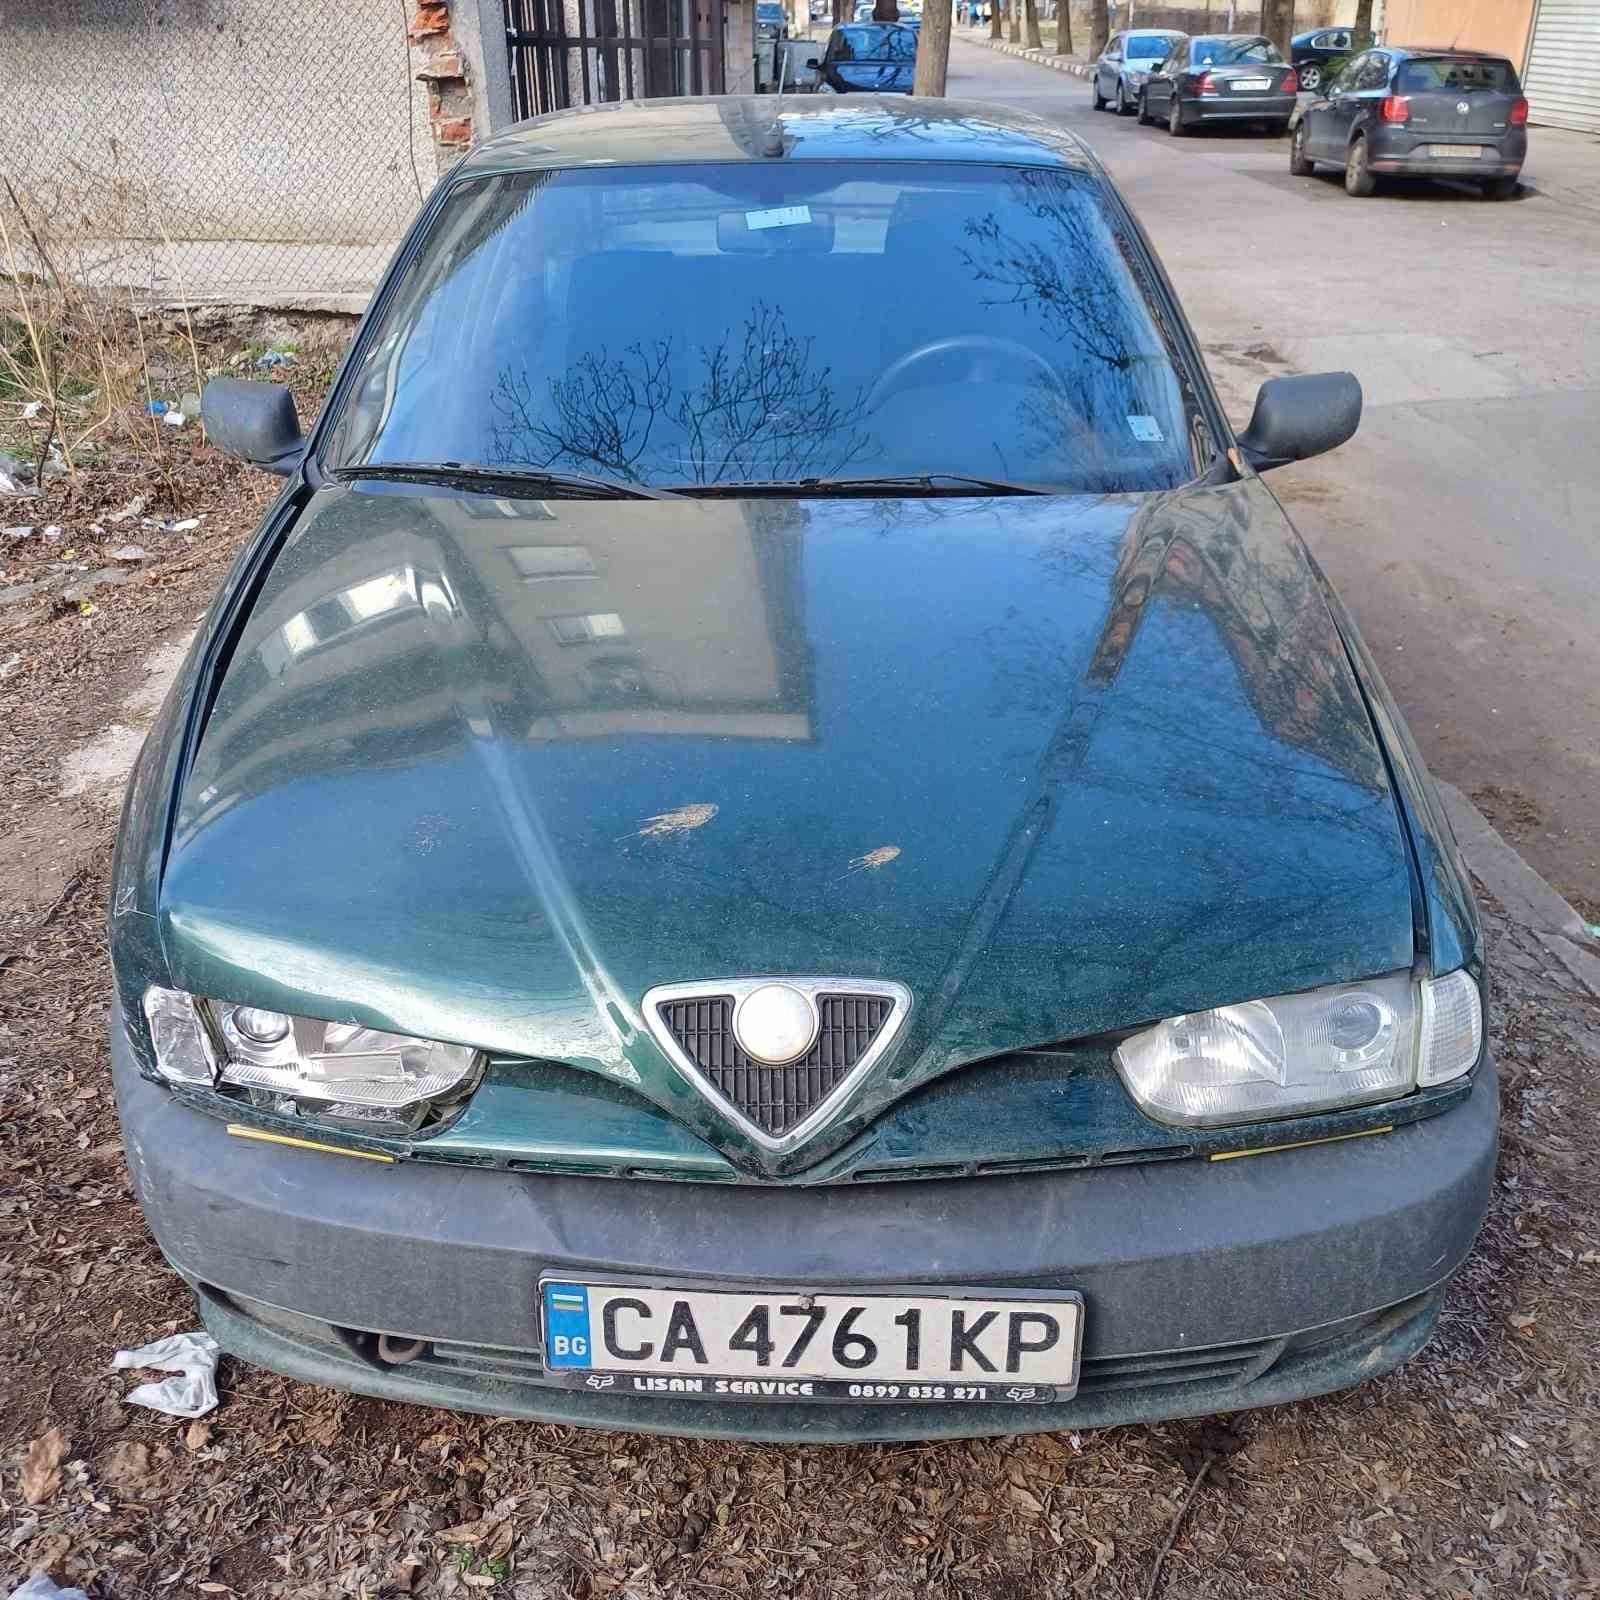registration_plate: (546, 1287, 1095, 1395)
